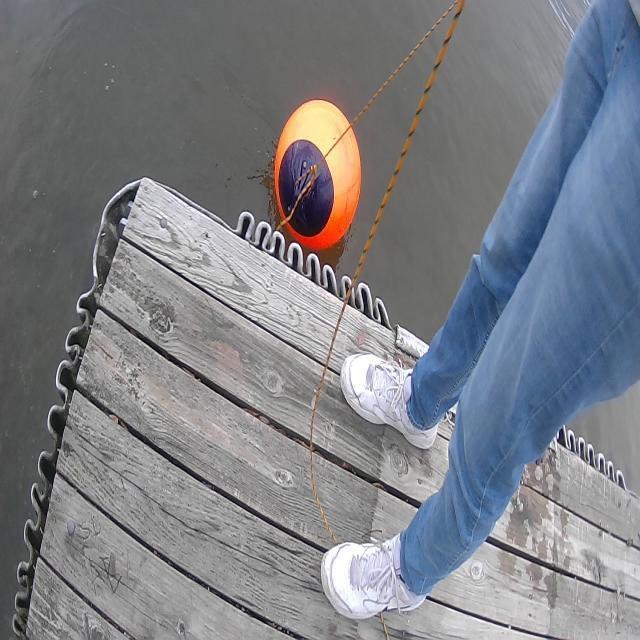Buoy: (269, 83, 366, 267)
